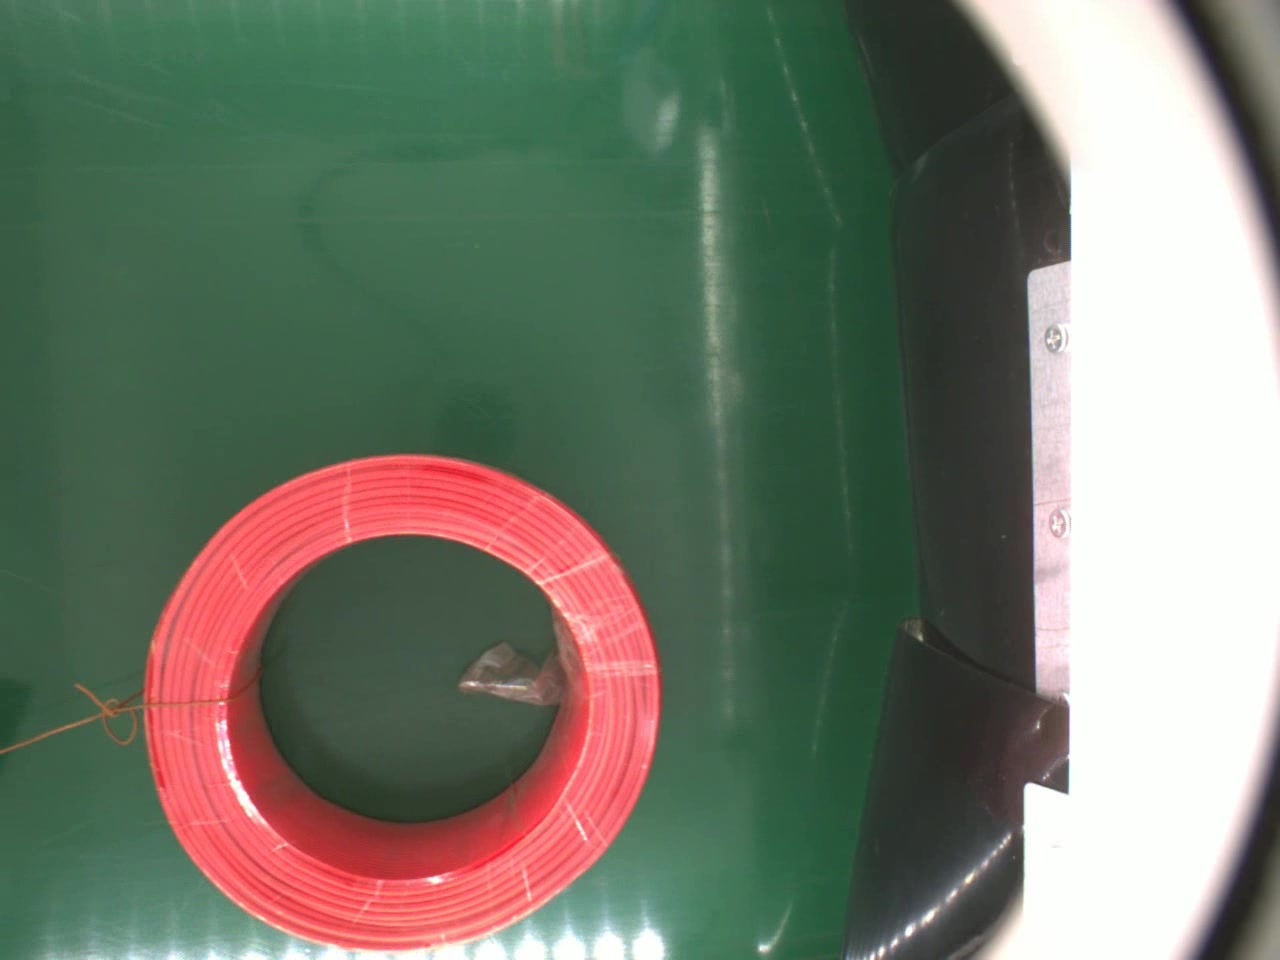red: (140, 449, 664, 951)
